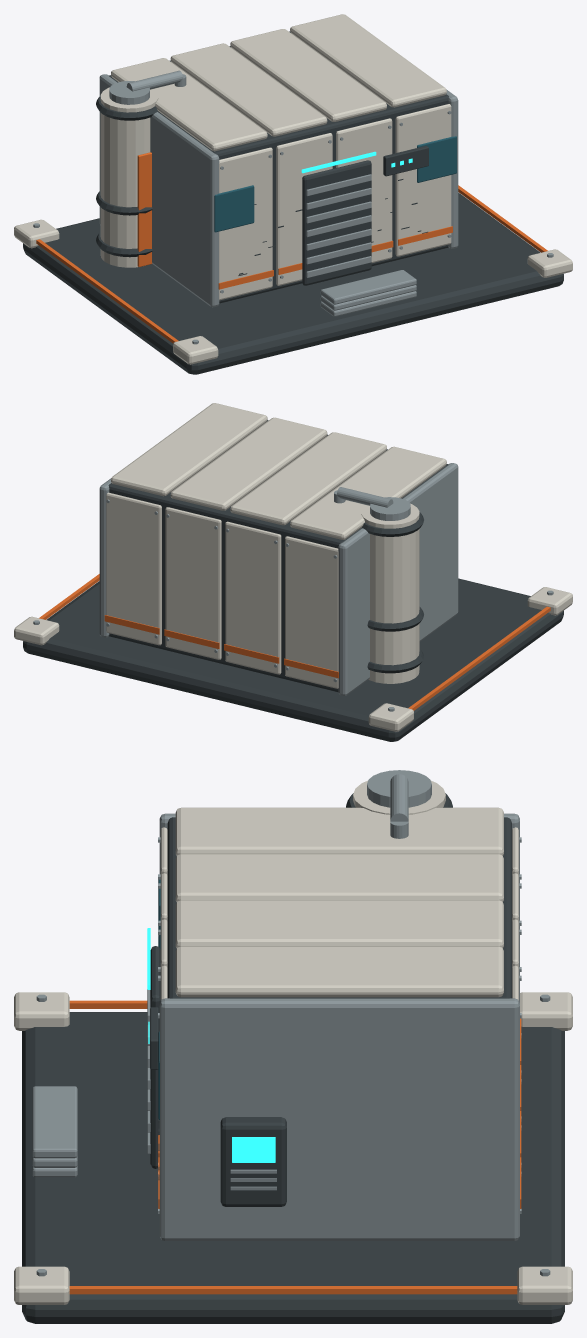
Rendered from SM_ElectronicsAssembly_Body.fbx.
The picture shows the model from 3 angles, top to bottom: view 1: azimuth 30°, elevation 25°; view 2: azimuth 150°, elevation 25°; view 3: azimuth 270°, elevation 25°; orthographic projection. The views are drawn at different scales.
Visible parts, largest first — view 1: SM_ElectronicsAssembly_Body; view 2: SM_ElectronicsAssembly_Body; view 3: SM_ElectronicsAssembly_Body.
Boxes of the visible parts, x1=… form: SM_ElectronicsAssembly_Body: x1=14, y1=14, x2=572, y2=374; SM_ElectronicsAssembly_Body: x1=14, y1=403, x2=572, y2=741; SM_ElectronicsAssembly_Body: x1=14, y1=770, x2=572, y2=1323.
Bounding box in the file's own units: 532 × 422 × 257.
